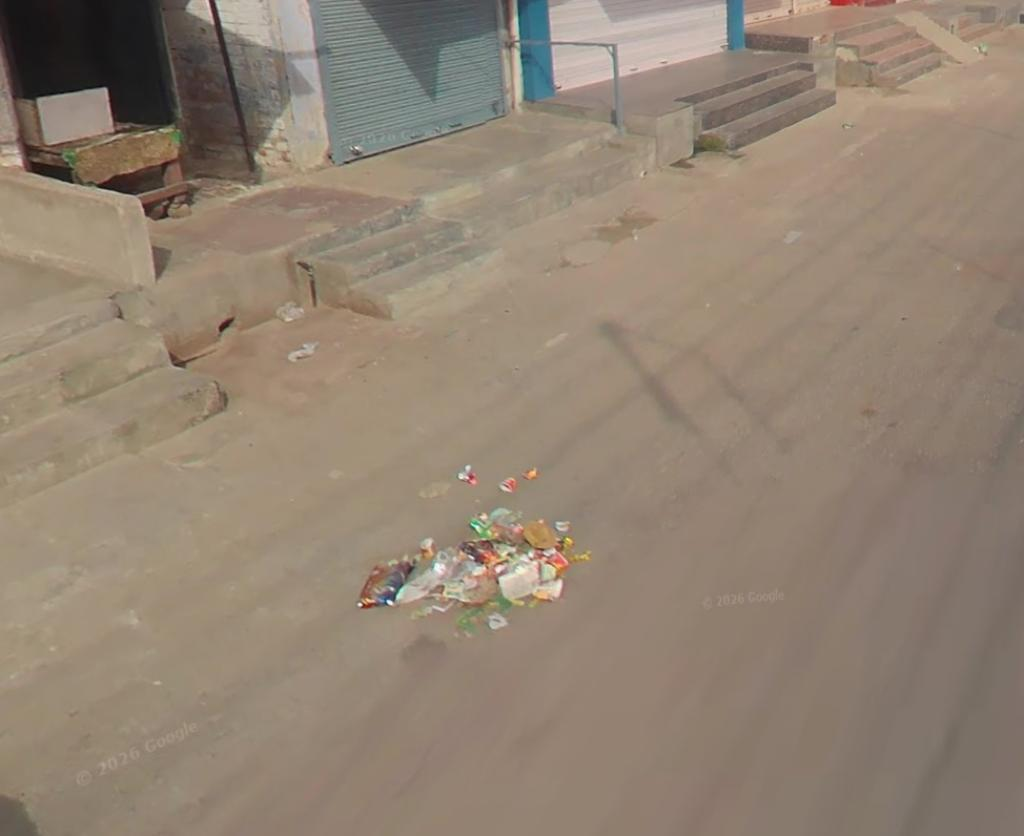garbage: (348, 547, 422, 614), (500, 556, 551, 613), (468, 502, 521, 545)
